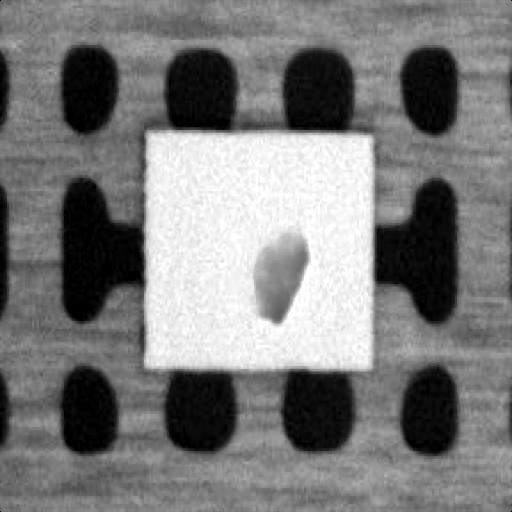DIE_INK: (251, 225, 309, 321)
